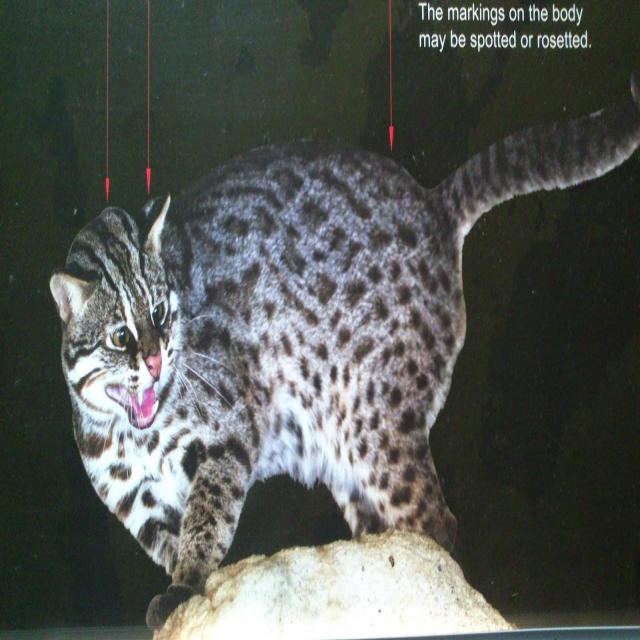leopard: (51, 221, 481, 566)
